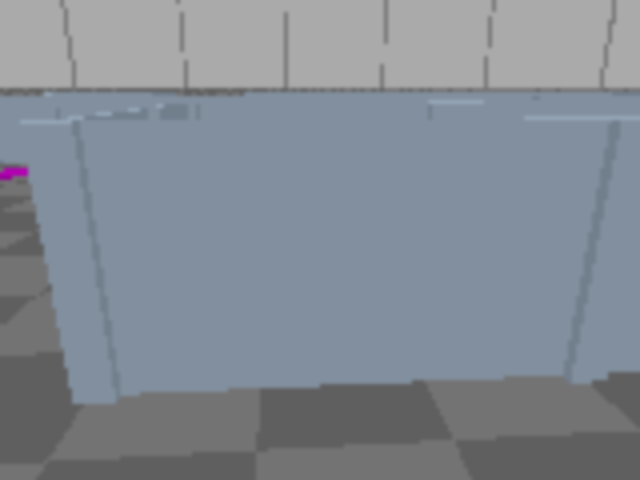goal_zone: (0, 167, 69, 178)
